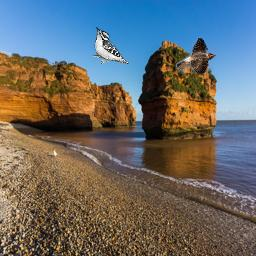Swallow: (176, 37, 217, 74)
Woodpecker: (92, 27, 129, 64)
